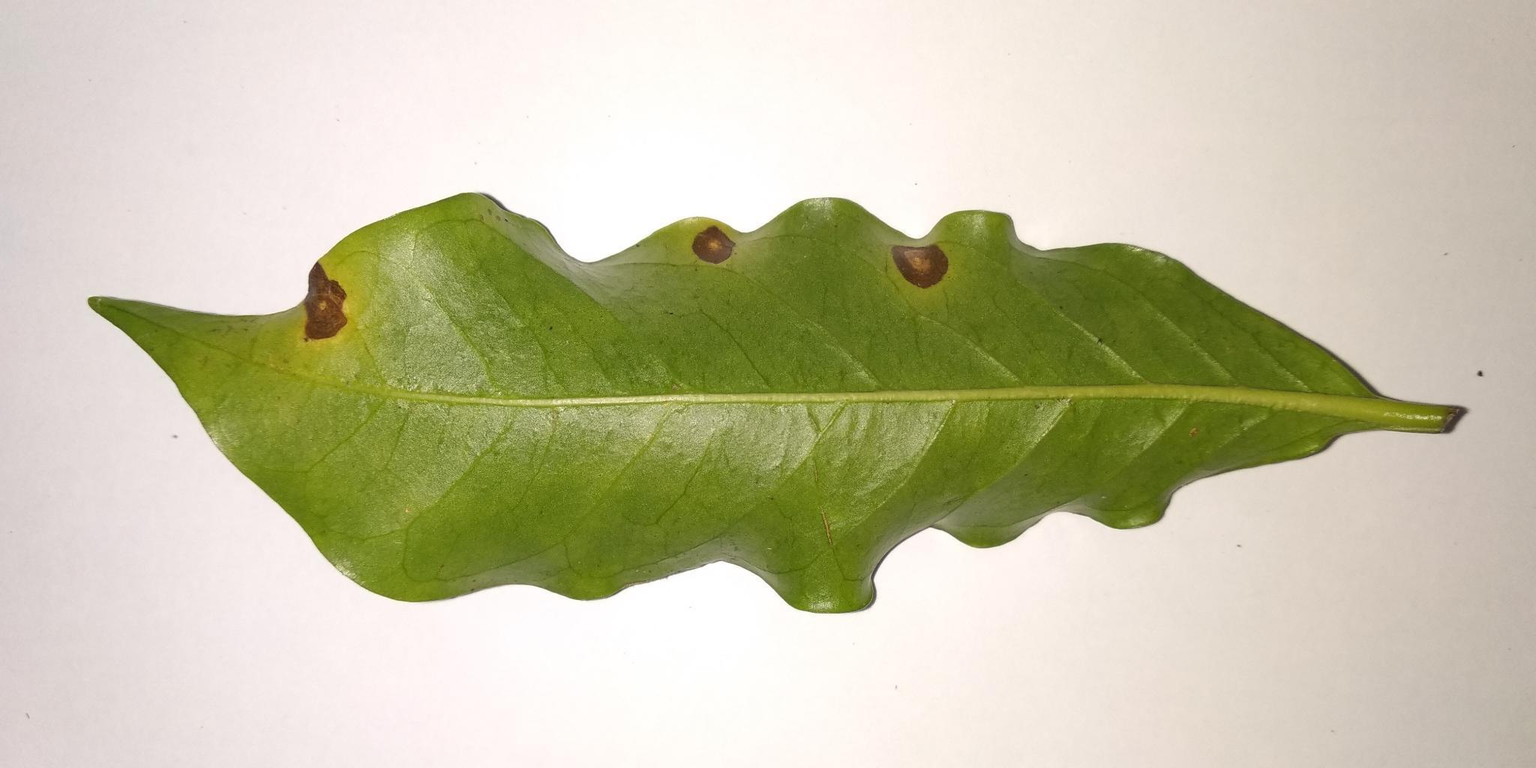Cercospora: (263, 240, 378, 360), (861, 210, 978, 315), (661, 195, 767, 300)
